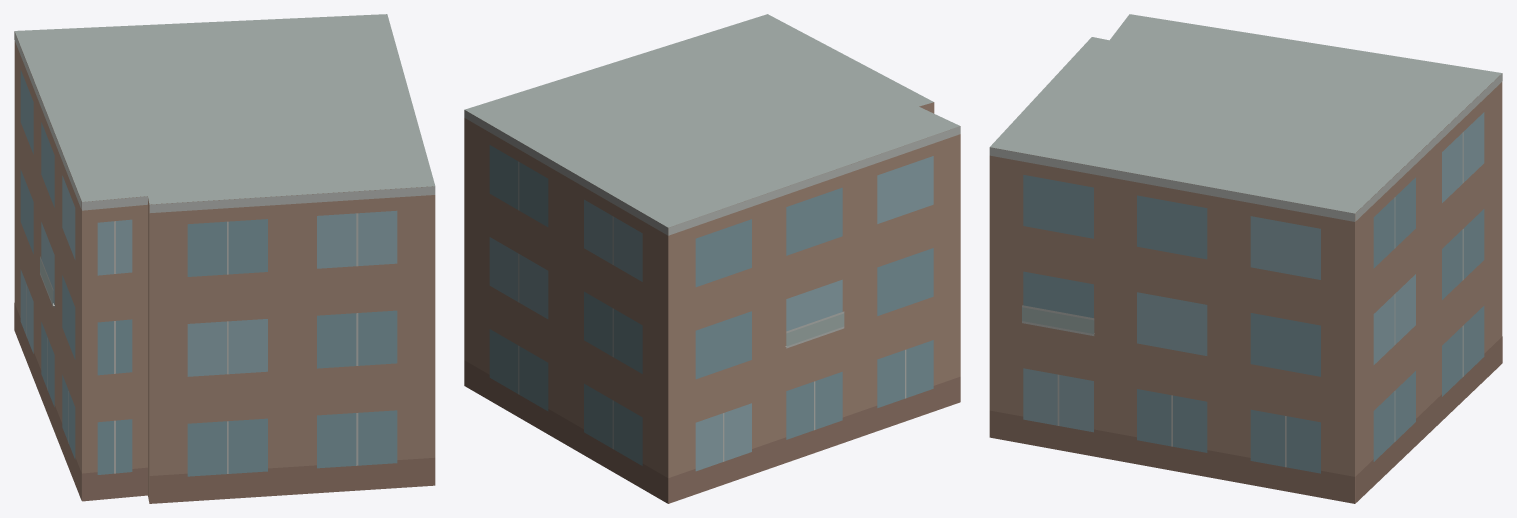
Rendered from survey-upis-32724841.glb.
The picture shows the model from 3 angles, left to right: view 1: azimuth 30°, elevation 25°; view 2: azimuth 150°, elevation 25°; view 3: azimuth 270°, elevation 25°; orthographic projection. The views are drawn at different scales.
Visible parts, largest first — view 1: survey-upis-32724841.tmp; view 2: survey-upis-32724841.tmp; view 3: survey-upis-32724841.tmp.
Boxes of the visible parts, left/top/right/bottom form: survey-upis-32724841.tmp: left=14, top=14, right=435, bottom=503; survey-upis-32724841.tmp: left=464, top=14, right=960, bottom=503; survey-upis-32724841.tmp: left=989, top=14, right=1502, bottom=503.
Bounding box in the file's own units: 12.39 × 8.4 × 13.46.
